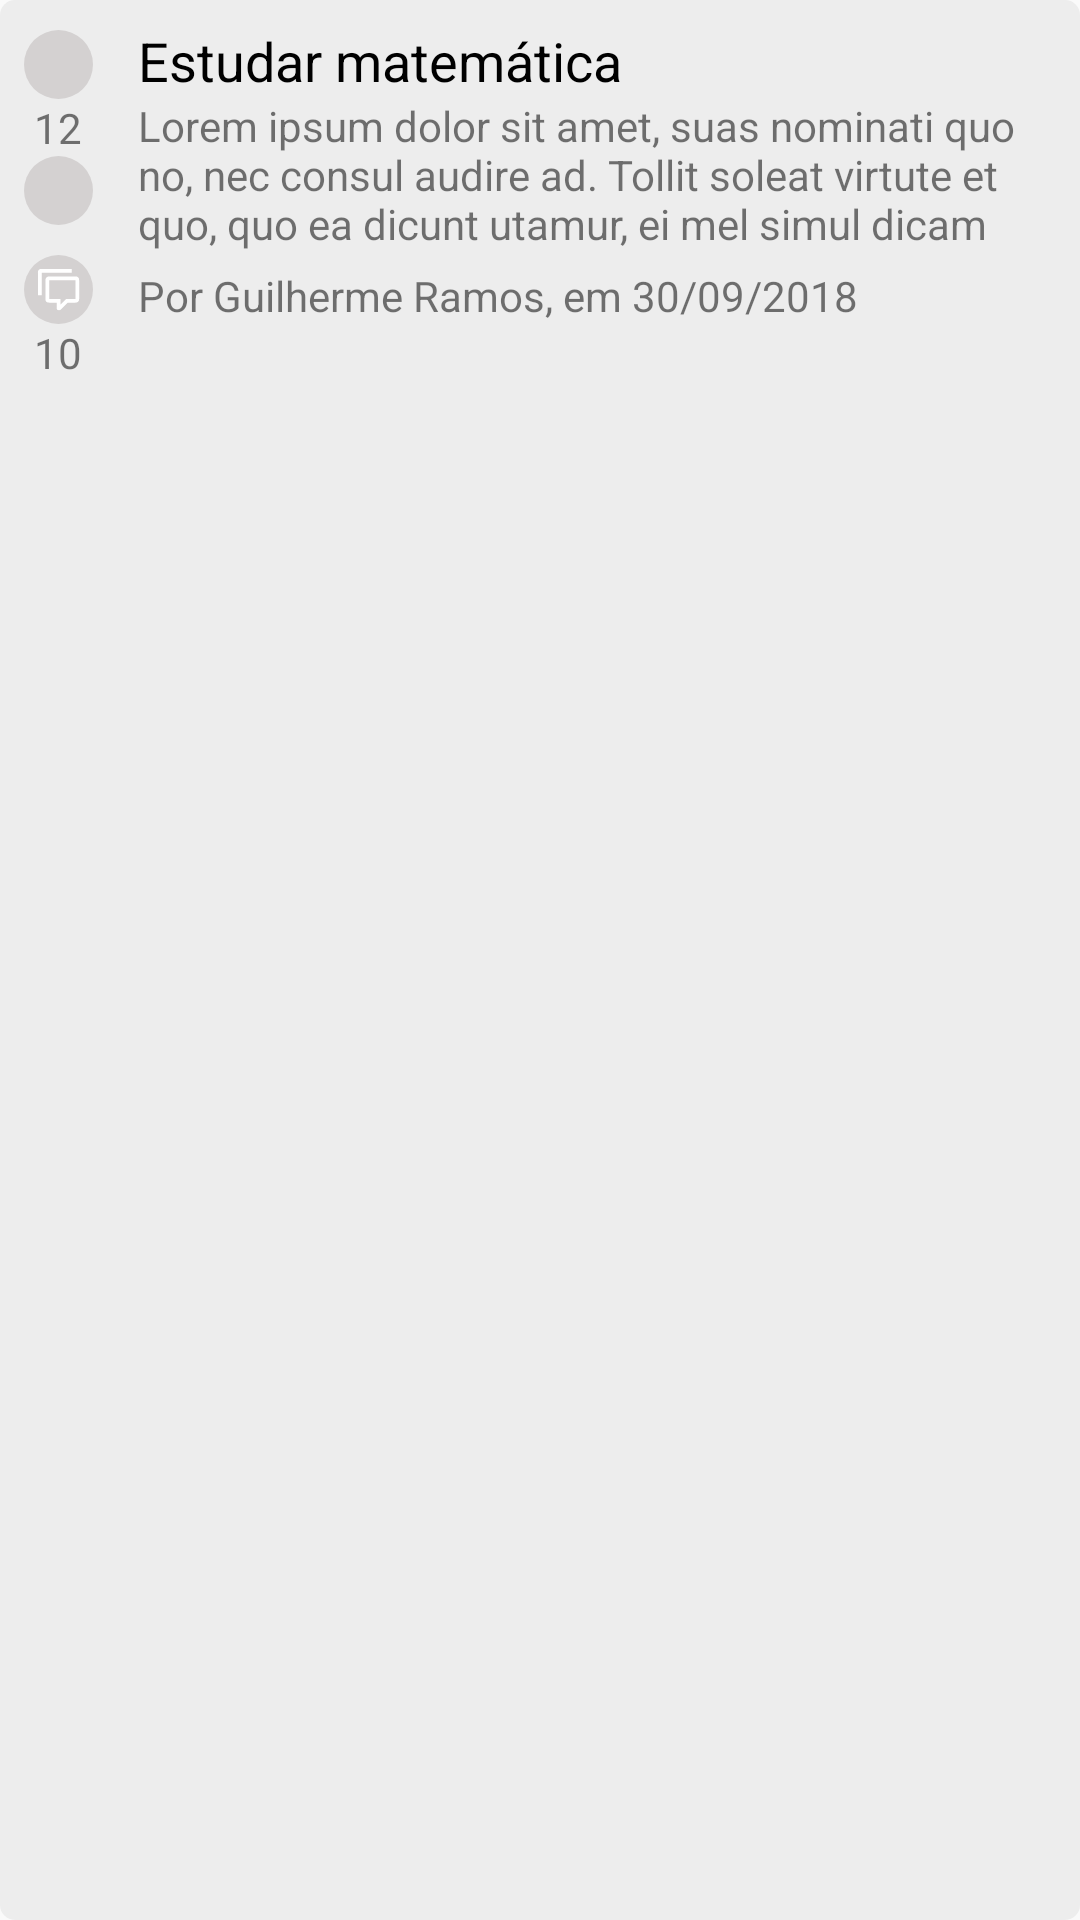

Where icons sit on this 1080px x 1920px app screen, as [x1, y1, x2, y2]:
comment: [38, 269, 79, 310]
